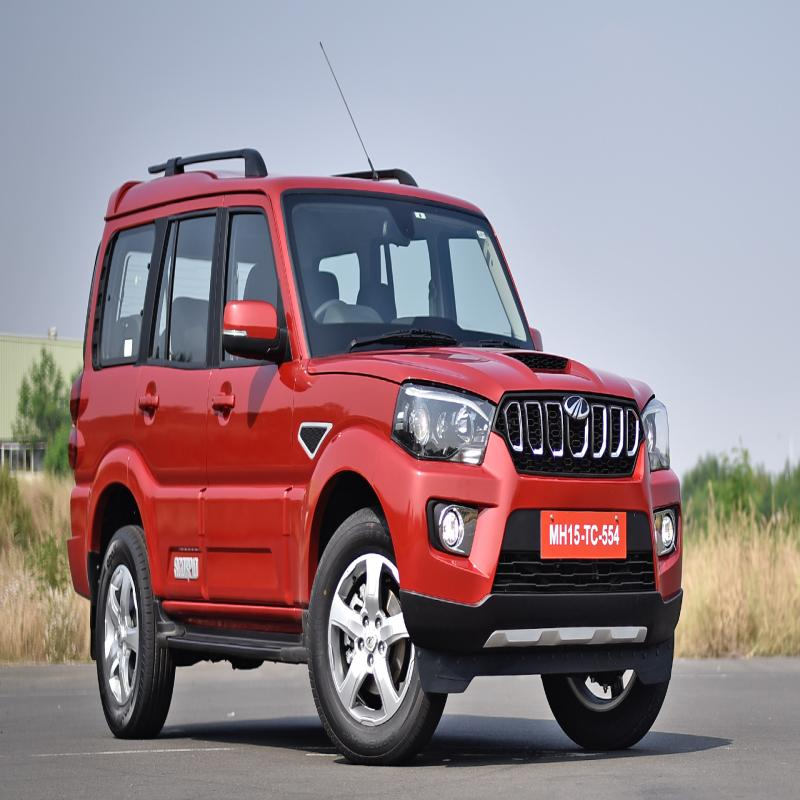car: (59, 143, 698, 778)
